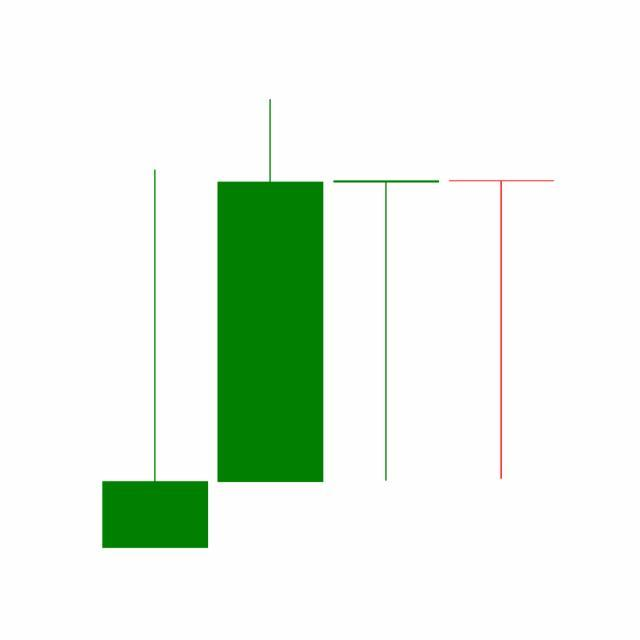Dragonfly Doji: (444, 178, 560, 484)
